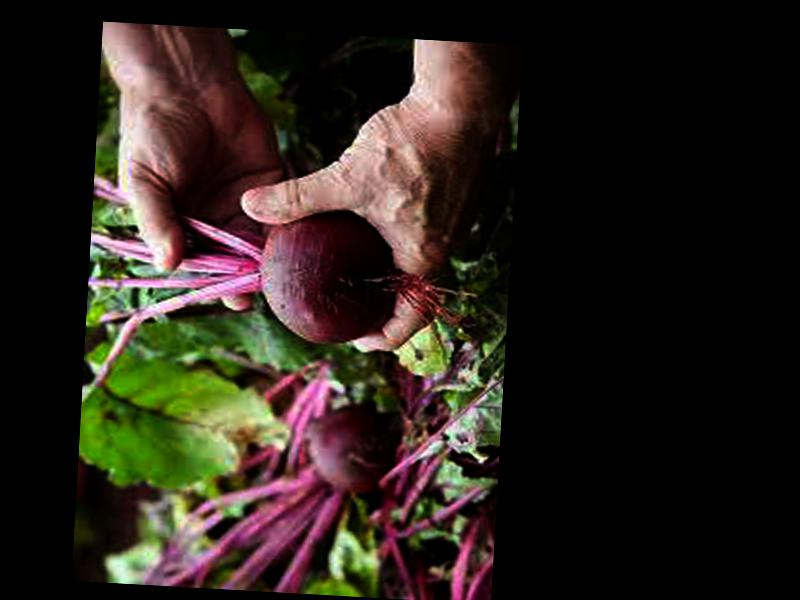Beet: (84, 194, 400, 420)
